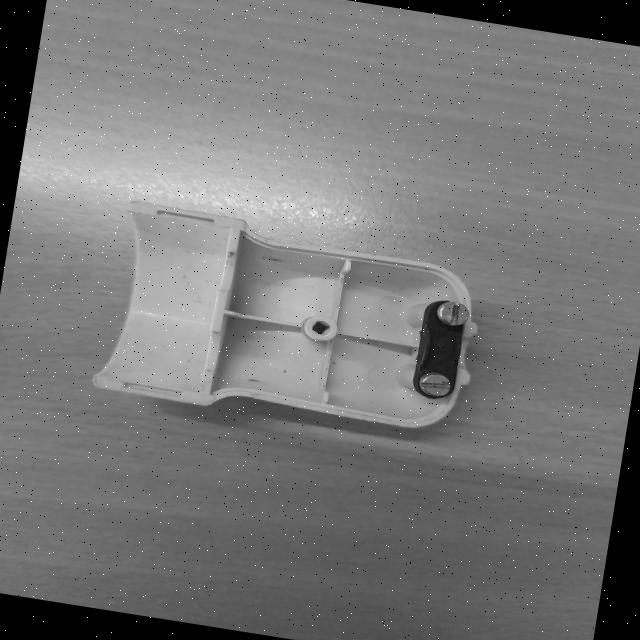Slotted: (416, 371, 453, 399), (436, 300, 472, 328)
